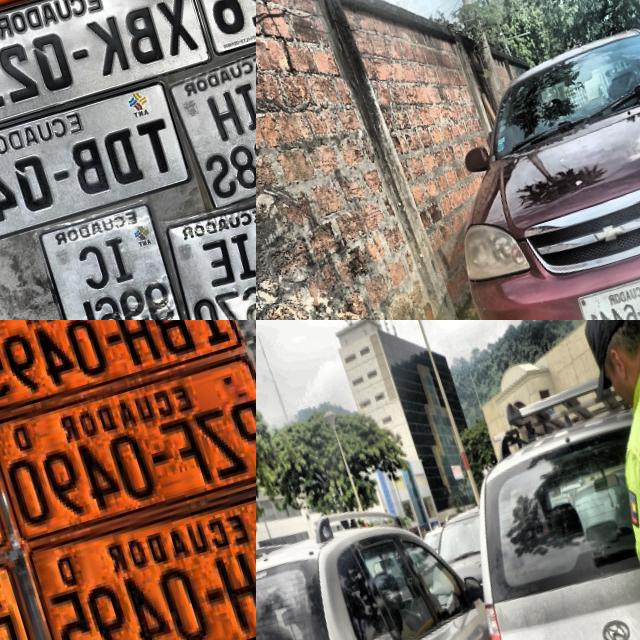license_plate: (0, 356, 256, 551), (0, 76, 197, 267), (19, 499, 256, 640), (0, 0, 211, 143), (0, 320, 255, 411), (575, 264, 640, 320)
